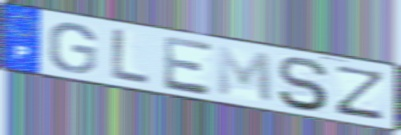E: (161, 34, 215, 99)
G: (46, 22, 99, 75)
L: (109, 26, 152, 88)
M: (215, 44, 276, 106)
S: (276, 55, 331, 114)
Z: (332, 63, 388, 122)
